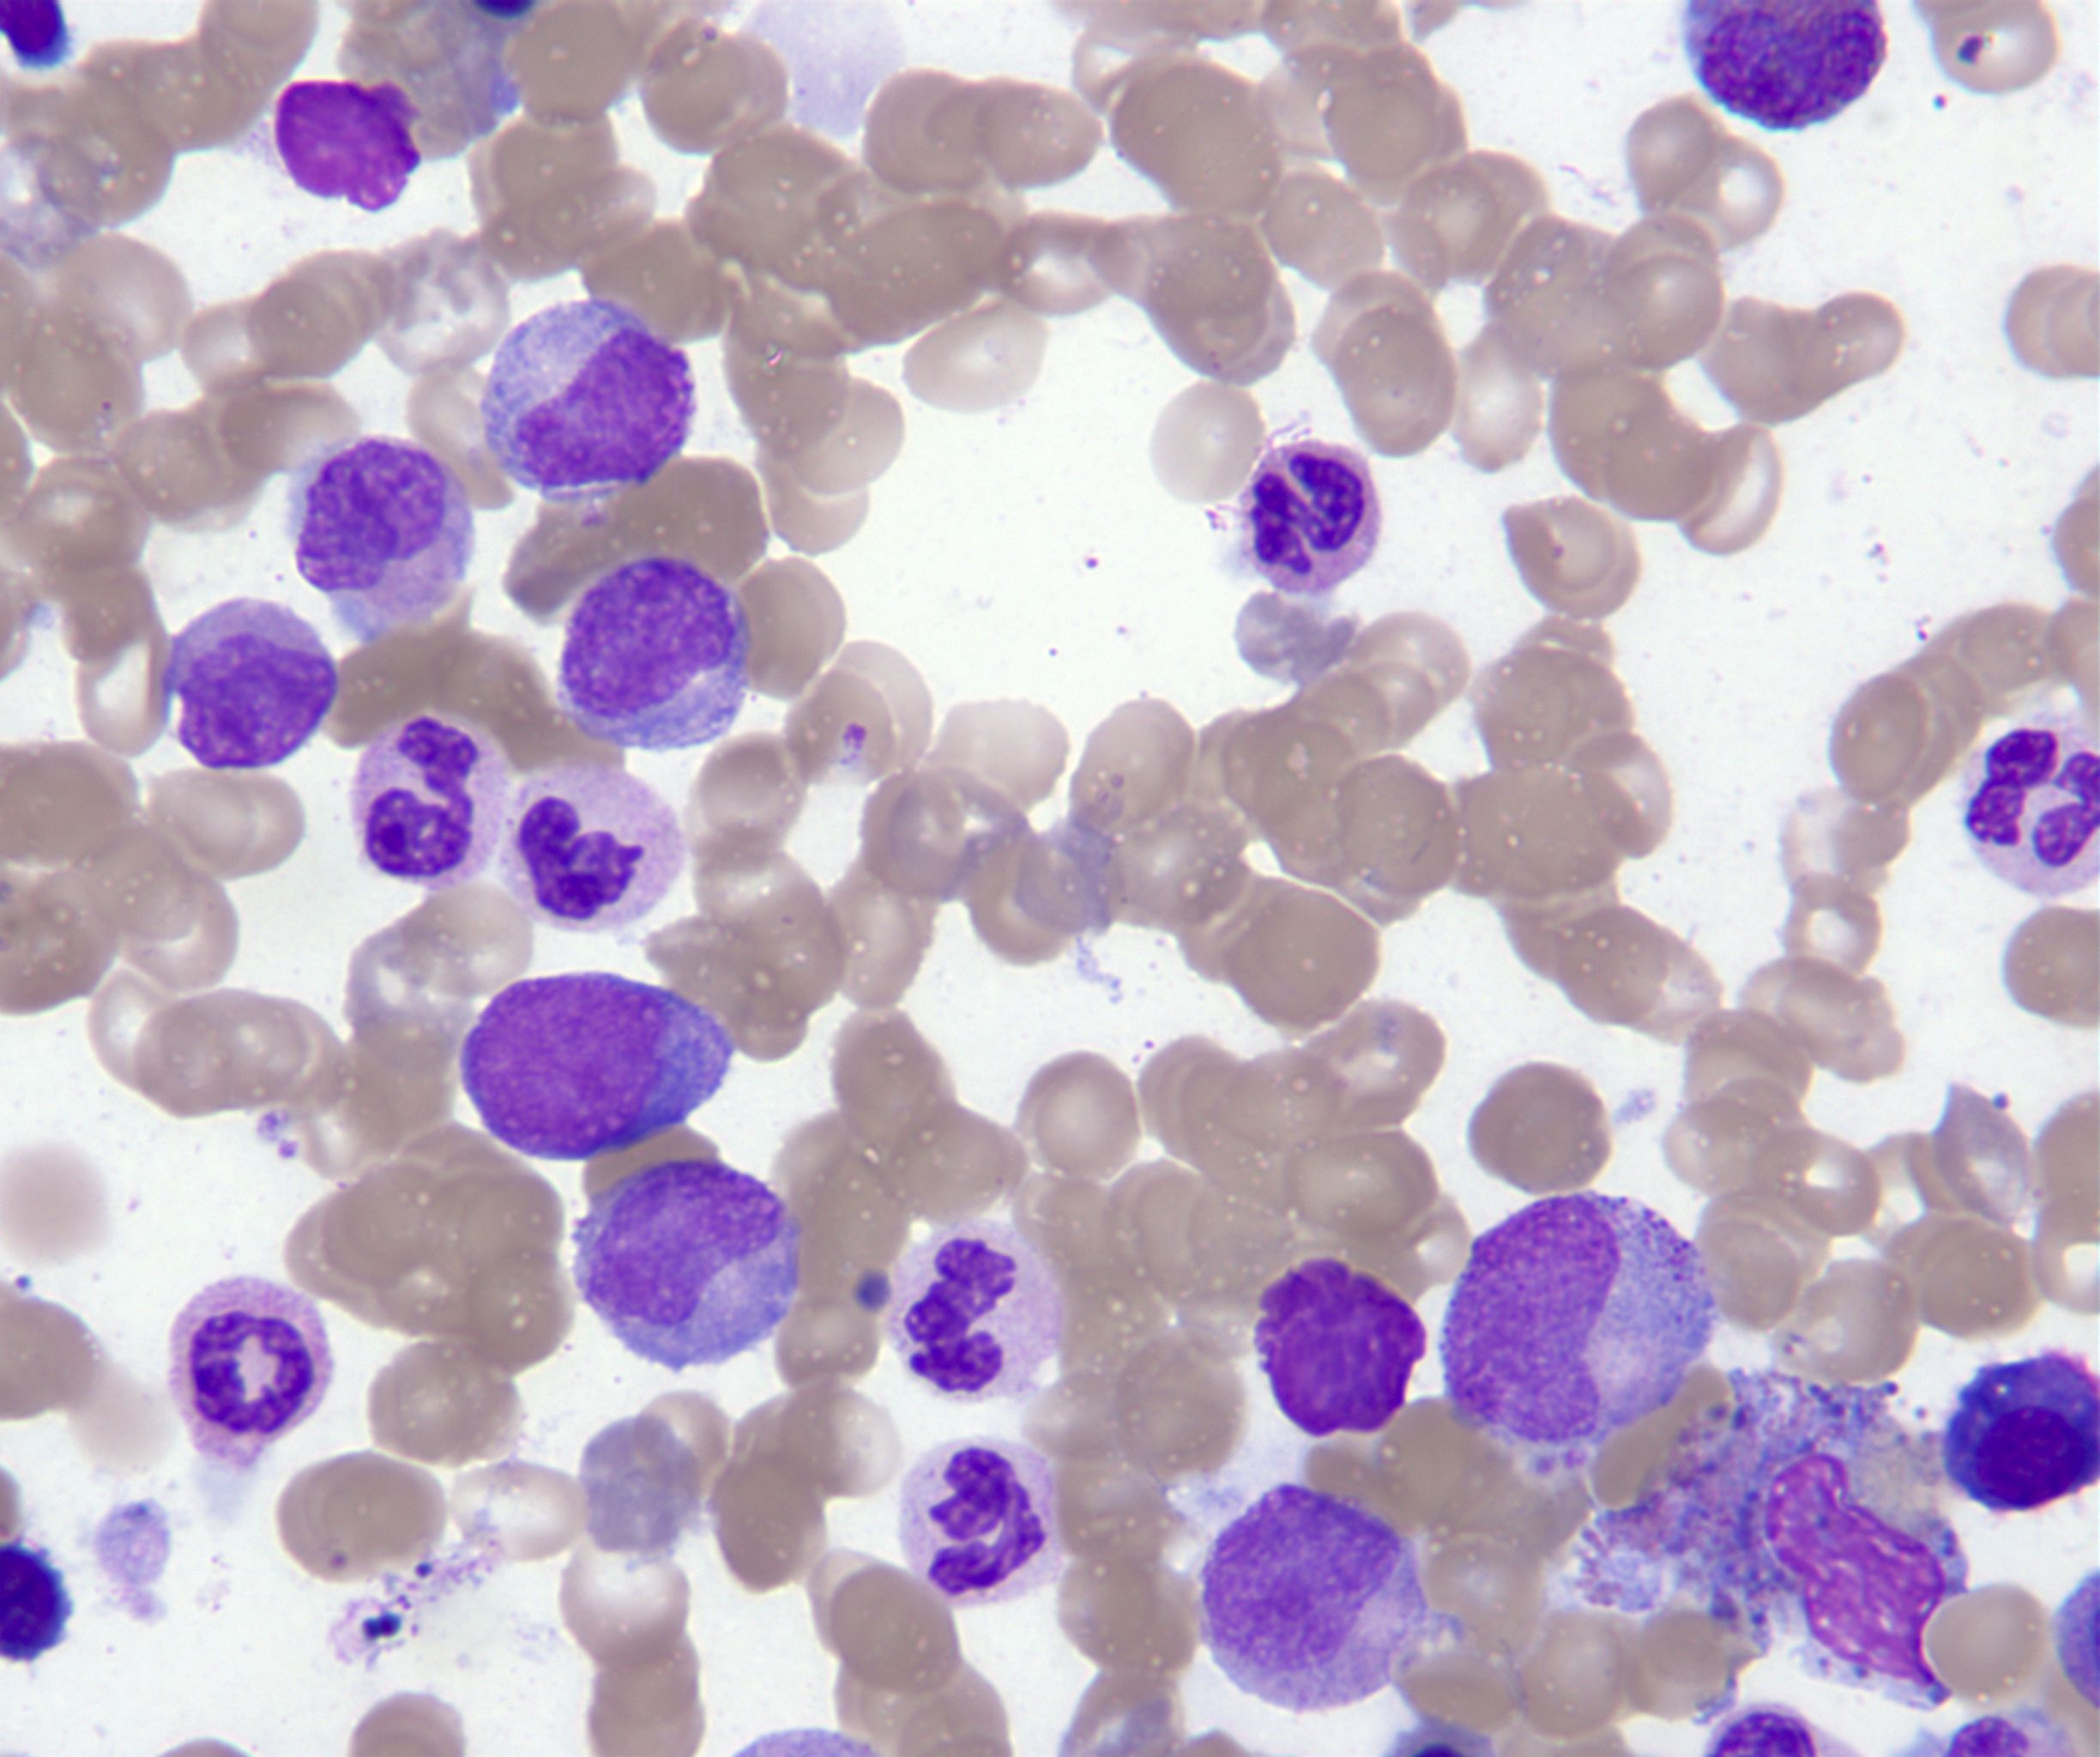2: (459, 968, 743, 1166)
3: (1432, 1188, 1723, 1495), (1191, 1476, 1437, 1722), (563, 1159, 811, 1378)
4: (481, 291, 706, 516), (276, 431, 485, 651), (546, 551, 757, 761), (157, 593, 345, 780)
5: (490, 754, 692, 942), (160, 1272, 340, 1469), (344, 705, 520, 899), (1231, 429, 1390, 604)
52: (1936, 1342, 2100, 1527)
6: (879, 1209, 1067, 1413), (891, 1427, 1080, 1621), (1953, 715, 2100, 906)
x: (1247, 1249, 1432, 1443), (267, 73, 424, 216)
